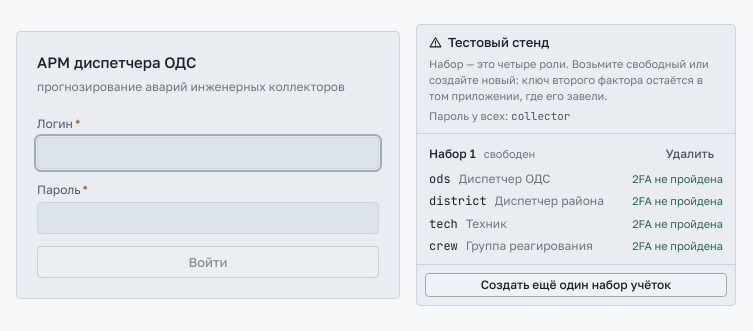
it: вход в систему › не тот пароль оставляет на первом шаге и объясняет причину
This screenshot has width=753, height=331.
Type "ods" into the field labelled "Логин*" at {"x": 208, "y": 153}, box x1=37 y1=137 x2=379 y2=169
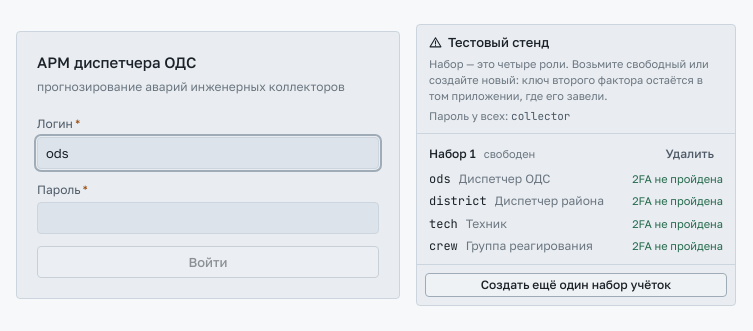
Type "не тот" into the password field labelled "Пароль*" at {"x": 208, "y": 218}, box x1=37 y1=202 x2=379 y2=234
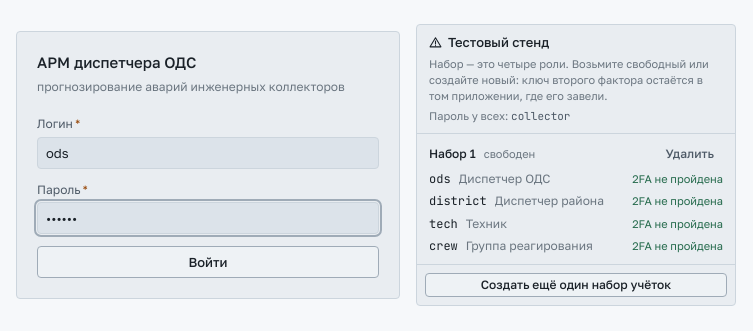
Click the button "Войти" at {"x": 208, "y": 262}, box x1=37 y1=246 x2=379 y2=278
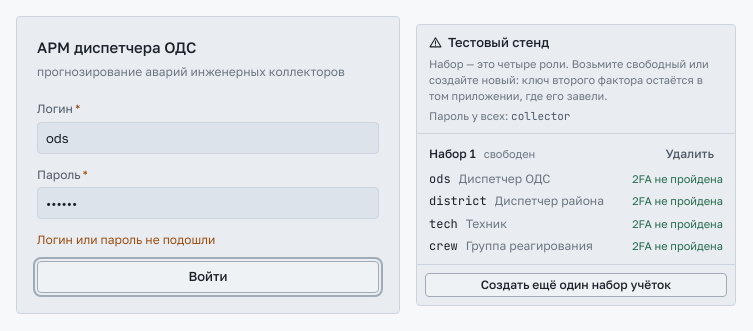
Now the message reads "Логин или пароль не подошли", box x1=37 y1=232 x2=216 y2=247
